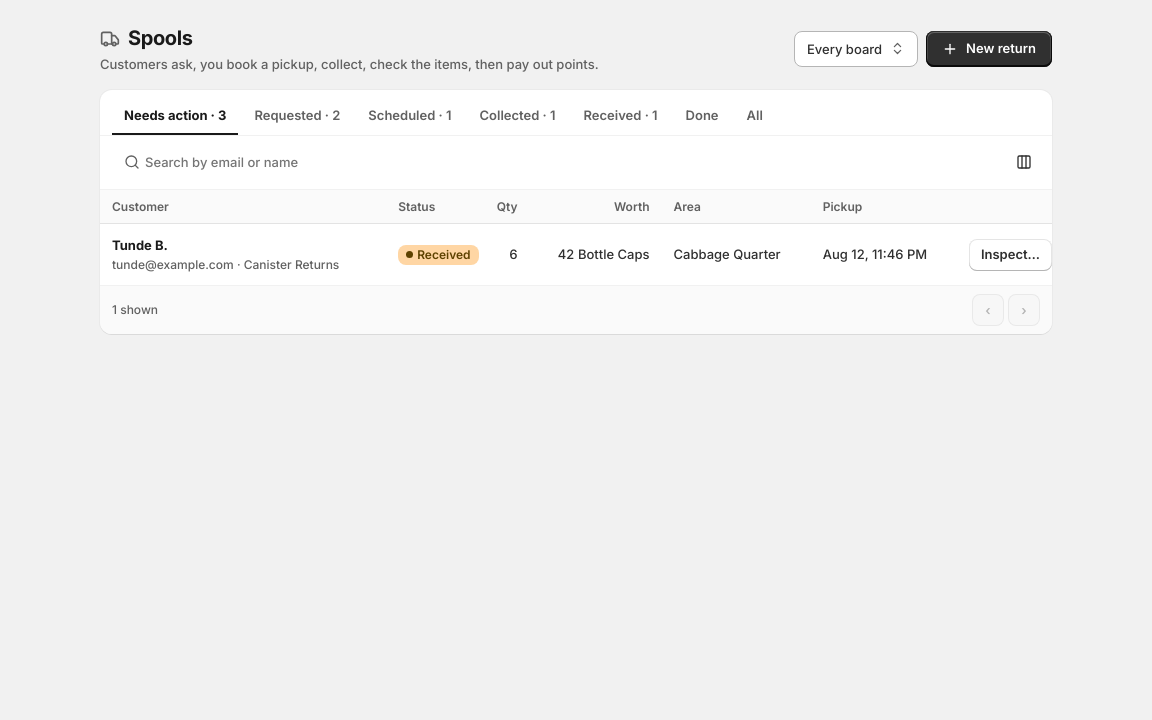
Test: the returns queue › treats the already_awarded 409 as success — the flow completes with no error surface
Click the button "Inspect…": coordinates (1010, 254) [969, 238, 1052, 270]
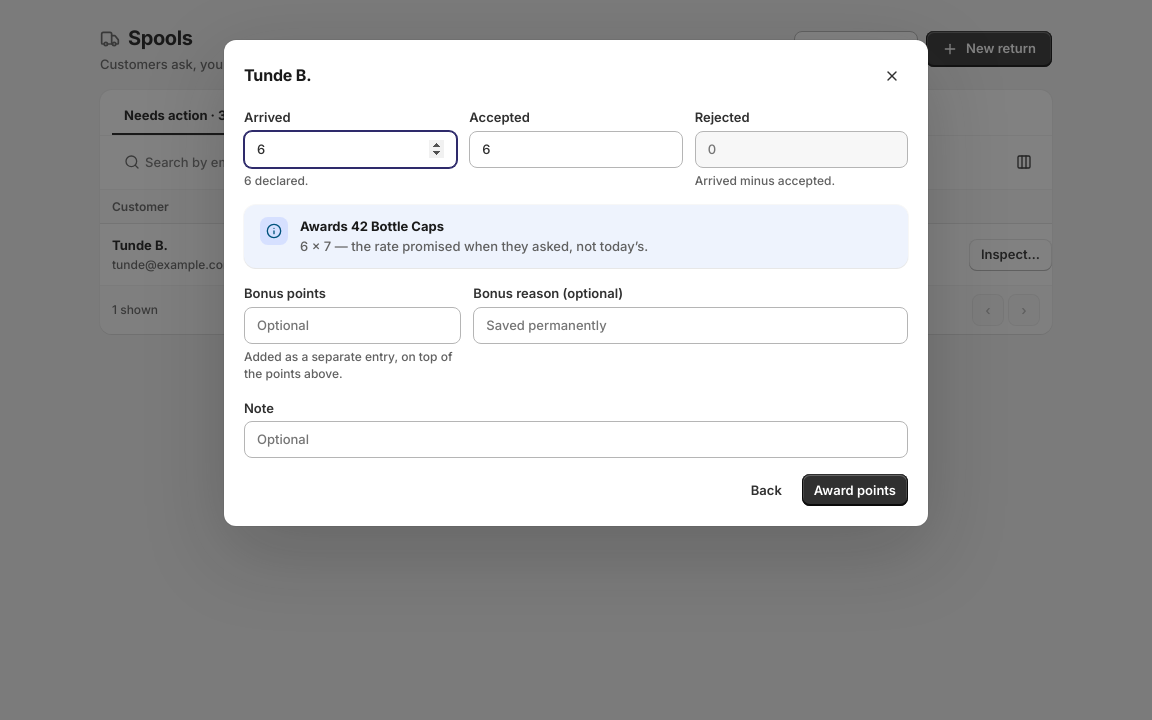
Expected: the number field labelled "Arrived" is shown, [244, 131, 457, 168]
Click the button "Award points": coordinates (855, 490) [802, 474, 908, 506]
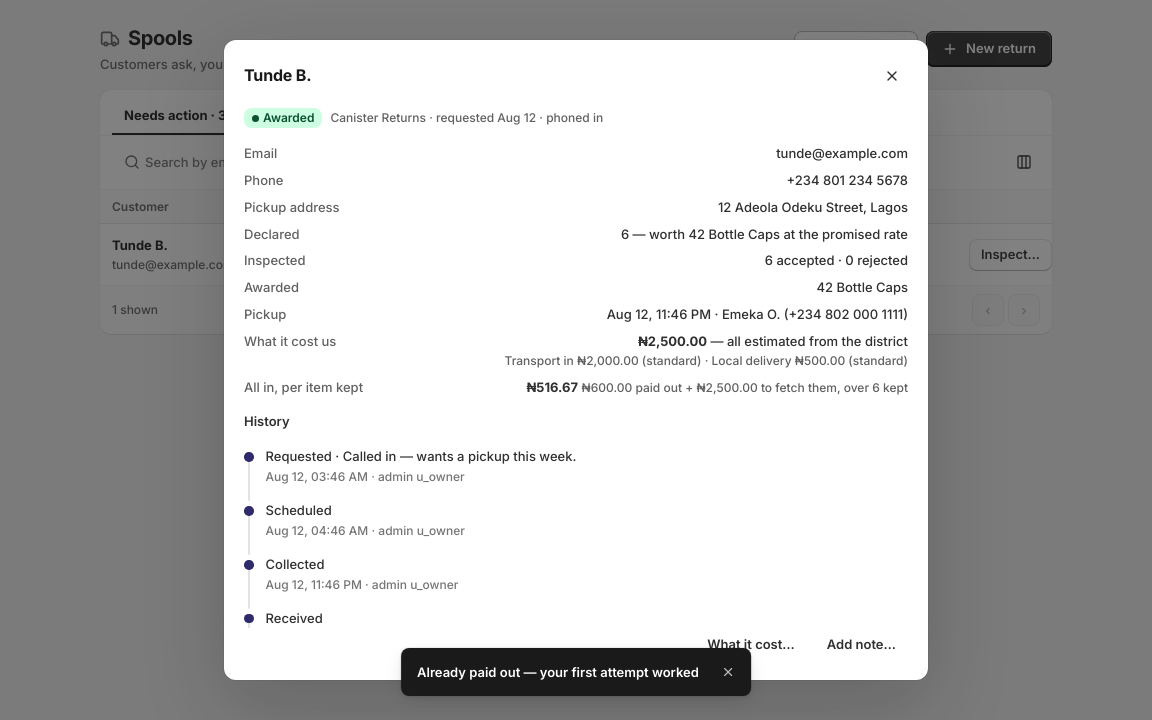
Expected: the text "Already paid out — your first attempt worked" is shown, [417, 663, 699, 681]
Expected: the text "6 accepted · 0 rejected" is shown, [765, 251, 908, 270]
Expected: the text "42 Bottle Caps" is shown, [816, 278, 908, 297]
